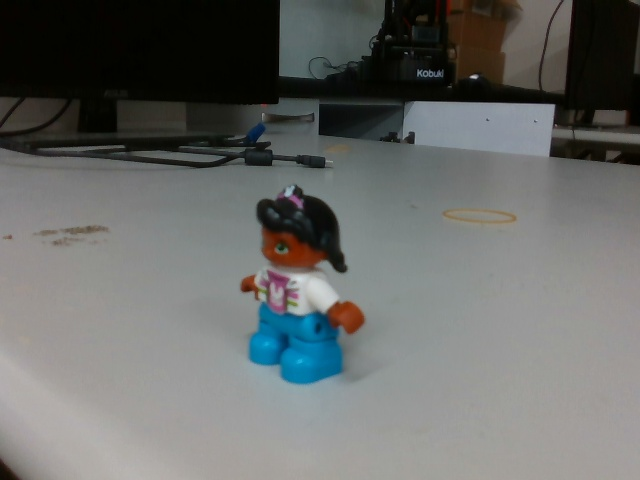people: (240, 182, 370, 385)
